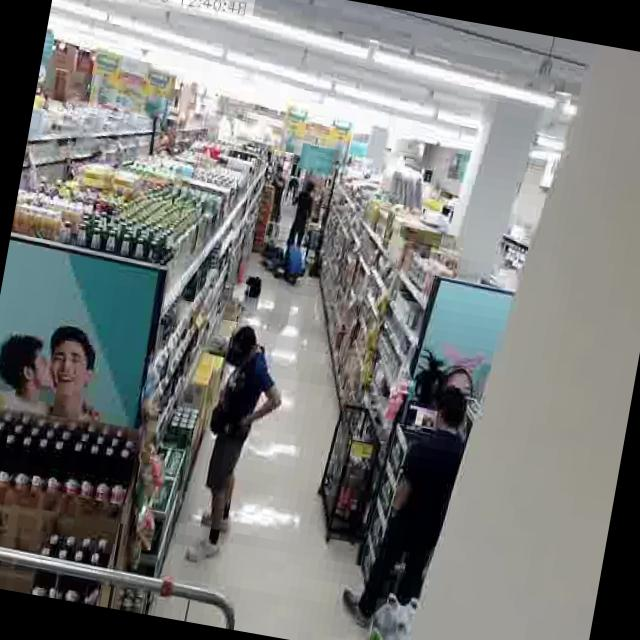shoplifting: (175, 312, 299, 578)
